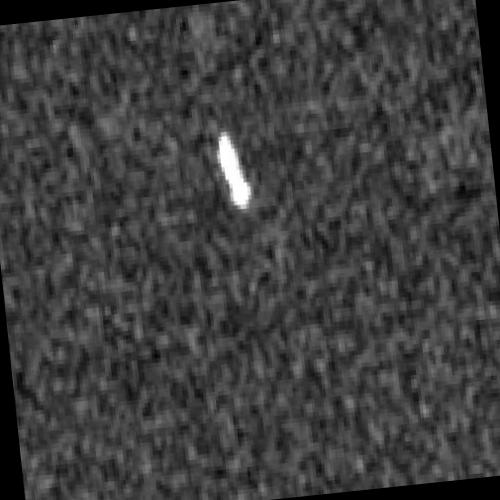ship: (216, 130, 251, 209)
